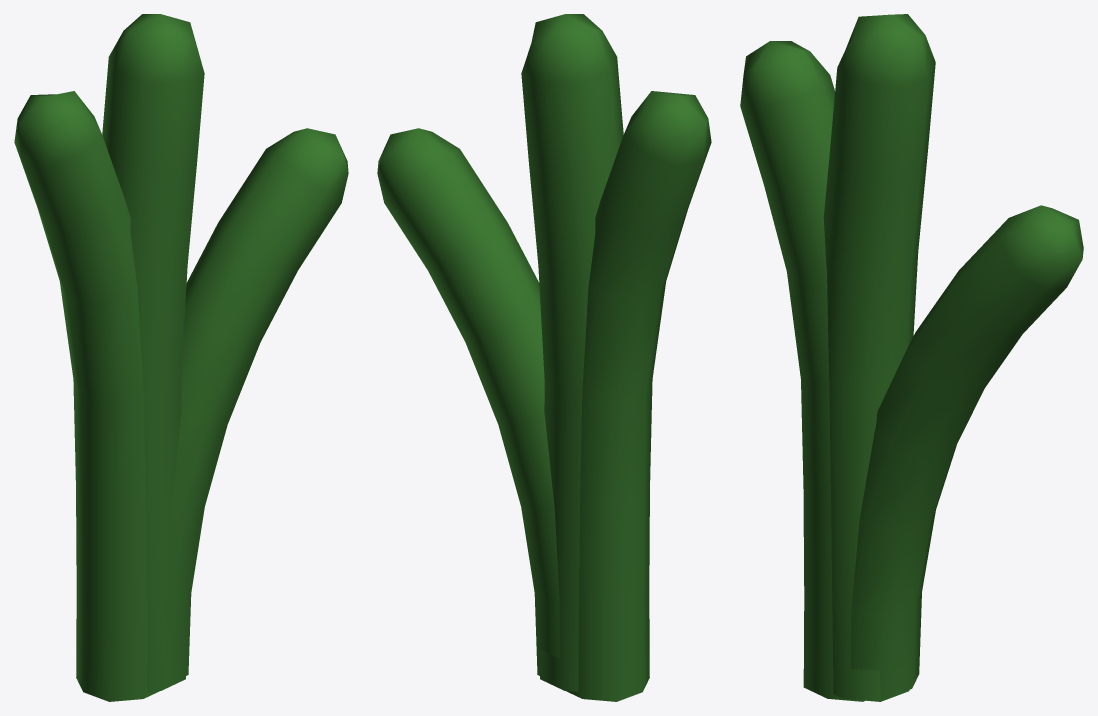
The model's file is grassBlades.fbx.
3 renders of one model, left to right at view 1: azimuth 30°, elevation 25°; view 2: azimuth 150°, elevation 25°; view 3: azimuth 330°, elevation 25°, orthographic. The views are drawn at different scales.
Parts seen in each view (by area): view 1: pCube3, pCube2, pCube1; view 2: pCube3, pCube2, pCube1; view 3: pCube2, pCube1, pCube3.
Boxes of the visible parts, bbox=[...] form: pCube3: bbox=[14, 91, 159, 701]; pCube2: bbox=[102, 14, 204, 691]; pCube1: bbox=[166, 128, 348, 675]; pCube3: bbox=[566, 91, 711, 701]; pCube2: bbox=[521, 14, 623, 691]; pCube1: bbox=[377, 128, 559, 675]; pCube2: bbox=[823, 14, 935, 701]; pCube1: bbox=[851, 205, 1083, 699]; pCube3: bbox=[740, 41, 865, 701].
Size of the model in its own units: 4.27 by 8.22 by 1.06.
